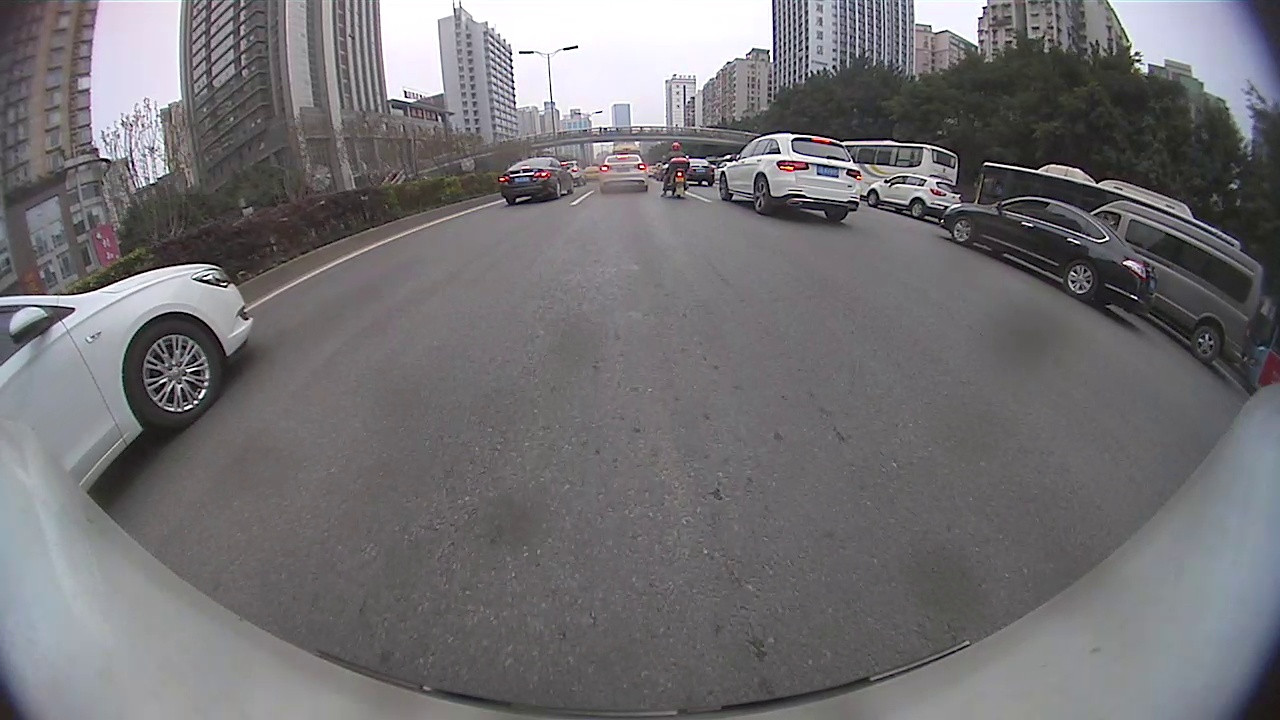bus: (974, 156, 1239, 250), (841, 140, 963, 184)
car: (2, 263, 256, 498), (1086, 201, 1269, 364), (942, 195, 1161, 312), (717, 130, 862, 222), (868, 171, 958, 219), (496, 156, 577, 205), (601, 151, 649, 192)
front: (124, 319, 225, 425), (951, 218, 972, 243), (717, 174, 731, 200), (864, 189, 881, 209)
rear: (1061, 257, 1099, 299), (1191, 325, 1219, 363), (752, 175, 770, 217), (910, 198, 924, 220)
rider: (660, 142, 689, 197)
